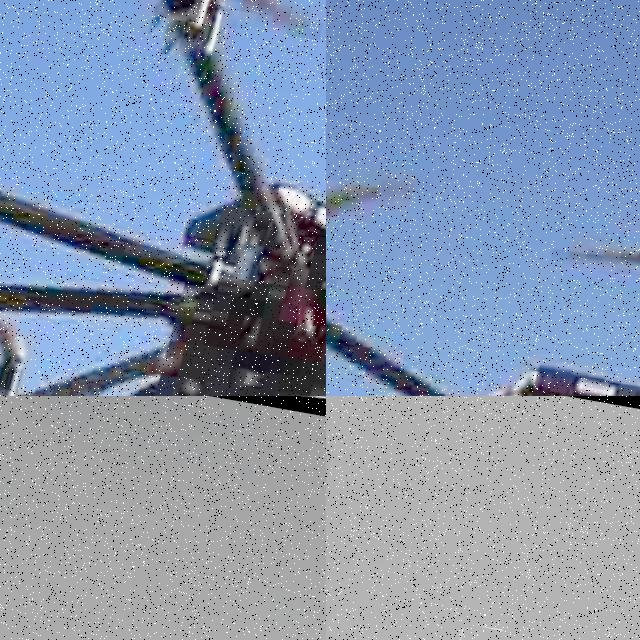drone: (0, 0, 326, 396), (326, 81, 640, 396)
